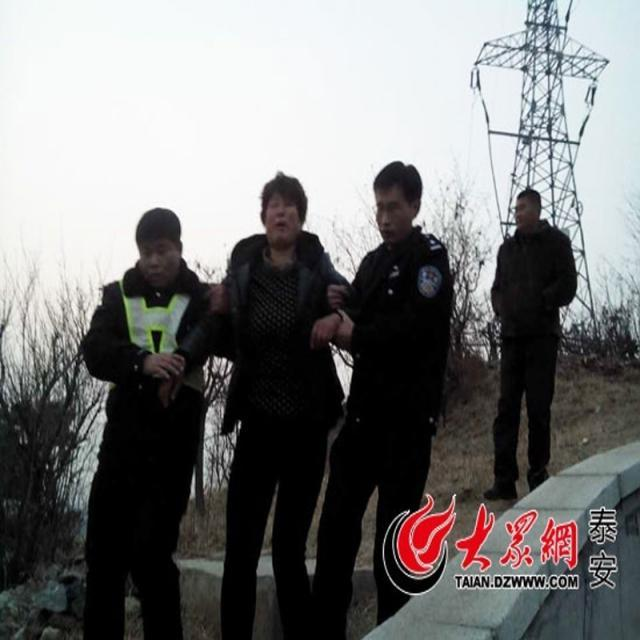non-critical vegetation: (484, 19, 606, 176)
